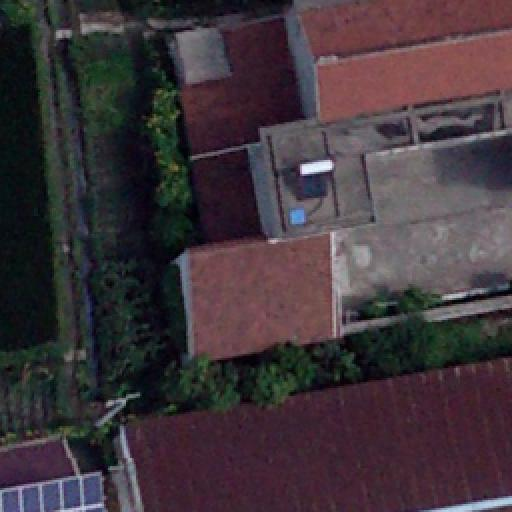solar-panel: (0, 470, 114, 512)
